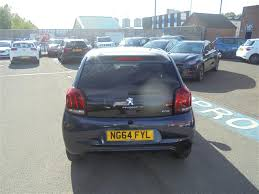licence-plate: (106, 130, 153, 140)
